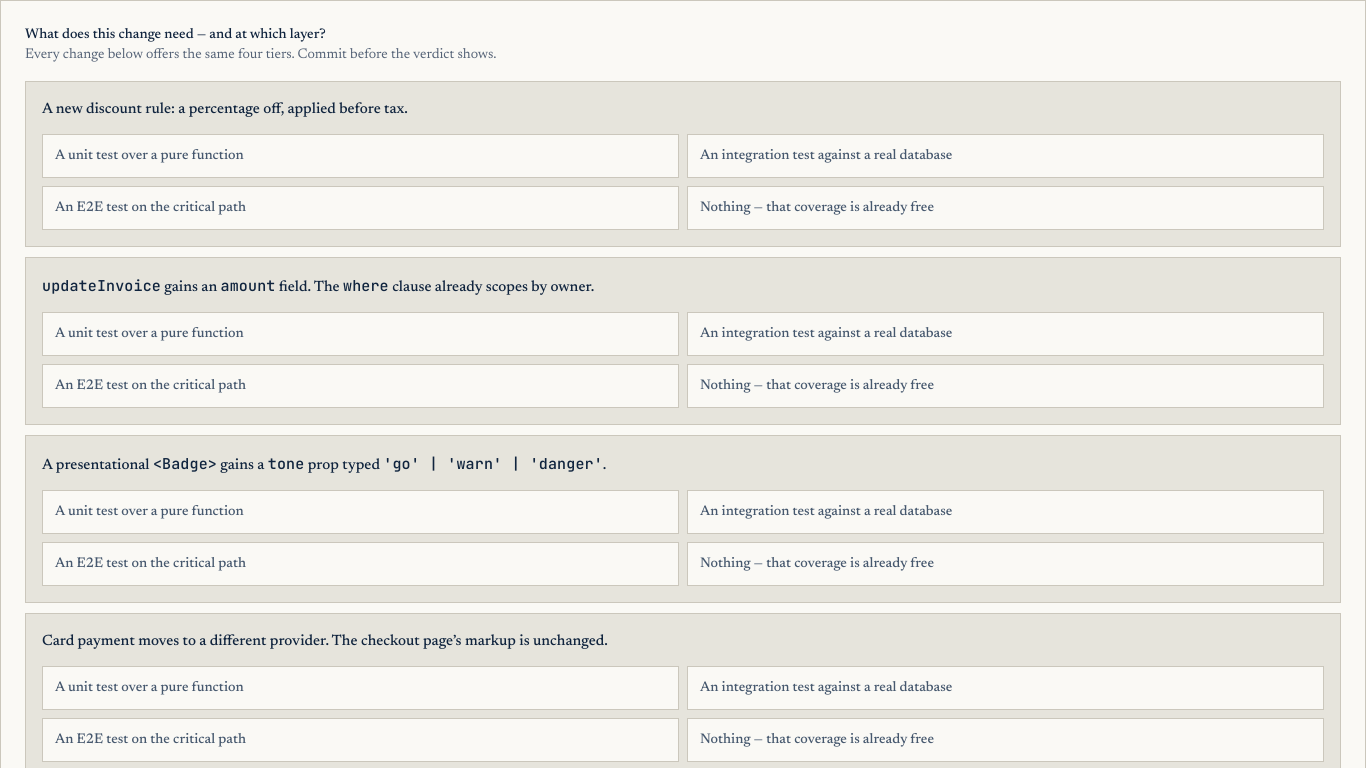
it: a typed presentational prop scored as a unit test is wrong
Click the radio button labelled "A unit test over a pure function" below "A presentational": (149, 512) [42,490,679,534]
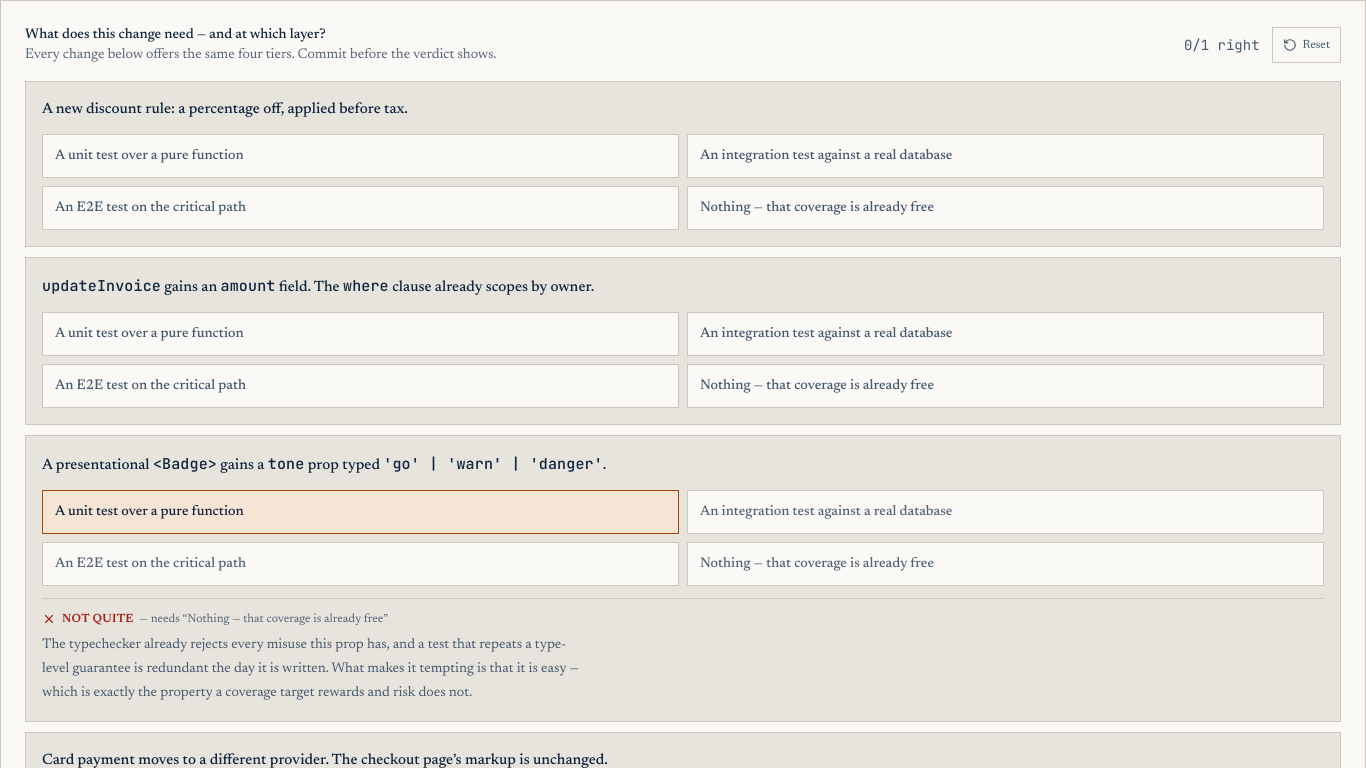
Result: the text "0/1 right" is shown at [1184,35,1260,55]
